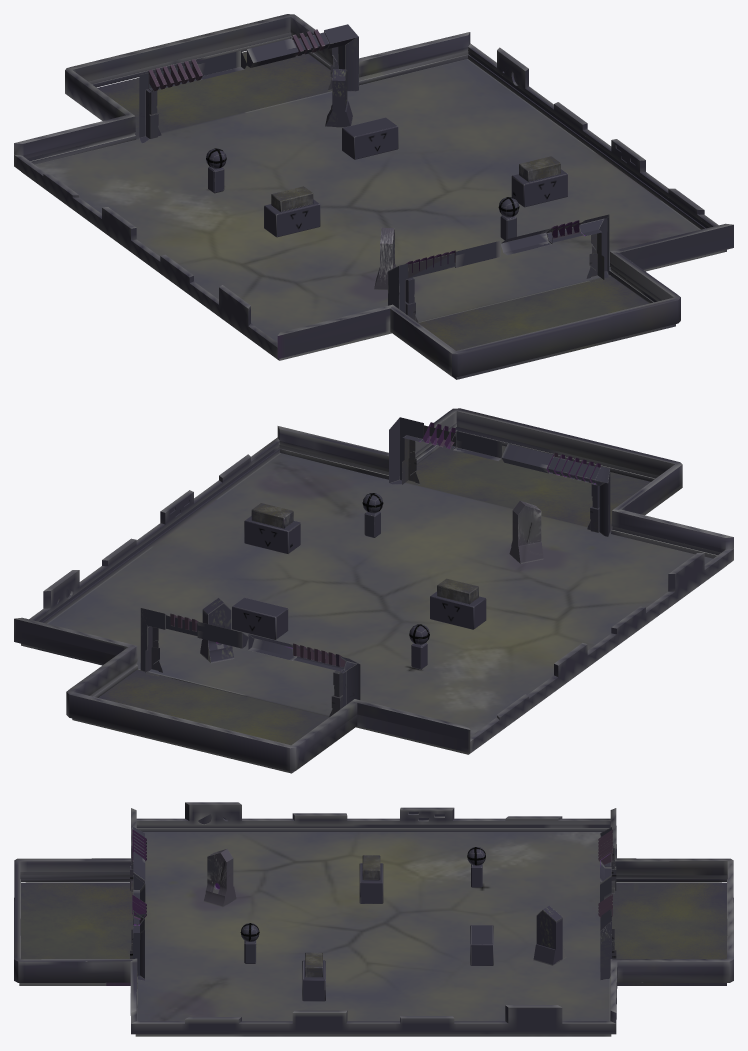
Rendered from GameMap.fbx.
3 renders of one model, top to bottom at view 1: azimuth 30°, elevation 25°; view 2: azimuth 150°, elevation 25°; view 3: azimuth 270°, elevation 25°, orthographic. The views are drawn at different scales.
Parts seen in each view (by area): view 1: map, Wall1, Wall2, Wall3, BAR4.001, Bar3; view 2: map, Wall2, Wall1, Wall3, Bar3, BAR4.001; view 3: map, BAR4.001, Bar3, Wall1, Wall2, Wall3.
Part boxes in pixels (<box>): map: <box>14,14,733,379</box>; Wall1: <box>264,186,320,237</box>; Wall2: <box>511,156,567,207</box>; Wall3: <box>342,117,398,159</box>; BAR4.001: <box>325,69,352,127</box>; Bar3: <box>374,227,396,290</box>; map: <box>14,408,733,773</box>; Wall2: <box>244,503,300,553</box>; Wall1: <box>430,578,486,629</box>; Wall3: <box>232,597,288,639</box>; Bar3: <box>509,500,543,563</box>; BAR4.001: <box>200,598,234,663</box>; map: <box>14,802,733,1036</box>; BAR4.001: <box>533,905,566,965</box>; Bar3: <box>203,849,236,907</box>; Wall1: <box>359,855,383,903</box>; Wall2: <box>302,952,325,1001</box>; Wall3: <box>470,925,493,965</box>.
Bounding box in the file's own units: 2058 × 302 × 3053.
